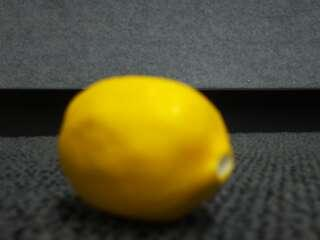lemon: (58, 75, 235, 220)
